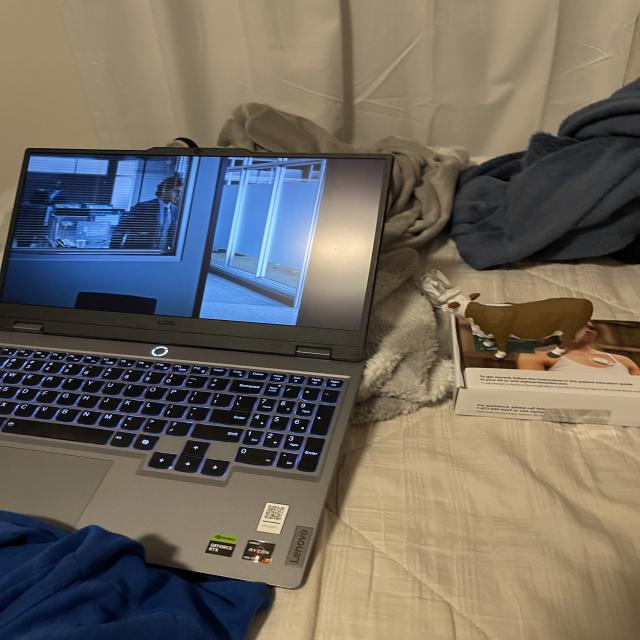cow: (438, 290, 593, 357)
